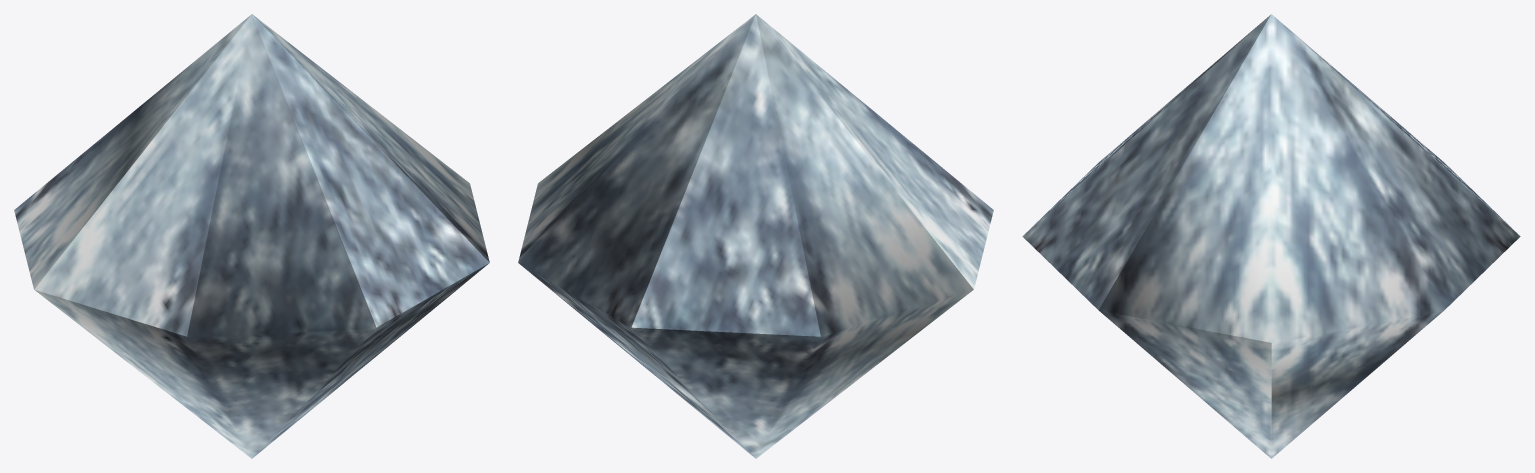
Rendered from Item0902.FBX.
3 views of the same model, side by side, from view 1: azimuth 30°, elevation 25°; view 2: azimuth 150°, elevation 25°; view 3: azimuth 270°, elevation 25° (orthographic).
Visible parts, largest first — view 1: Box02; view 2: Box02; view 3: Box02.
Part boxes in pixels (x1,y1,x2,y2): Box02: (14, 14, 489, 458); Box02: (518, 14, 993, 458); Box02: (1022, 14, 1520, 458).
Size of the model in its own units: 15.15 by 14.78 by 15.
2 materials, 2 textured.
